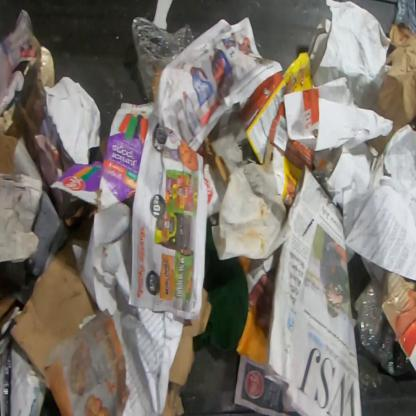cardboard: (8, 202, 103, 376), (236, 51, 332, 209), (49, 102, 152, 210), (159, 286, 212, 416), (0, 121, 23, 178), (0, 284, 17, 328)
rigid_plastic: (352, 277, 414, 376), (0, 327, 19, 415)
soft_plastic: (131, 16, 195, 99)
